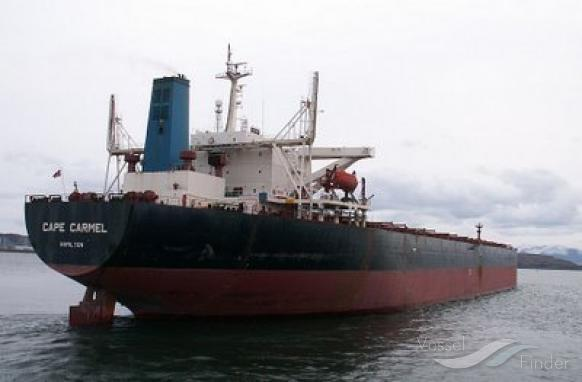OCR: (38, 214, 110, 252)
